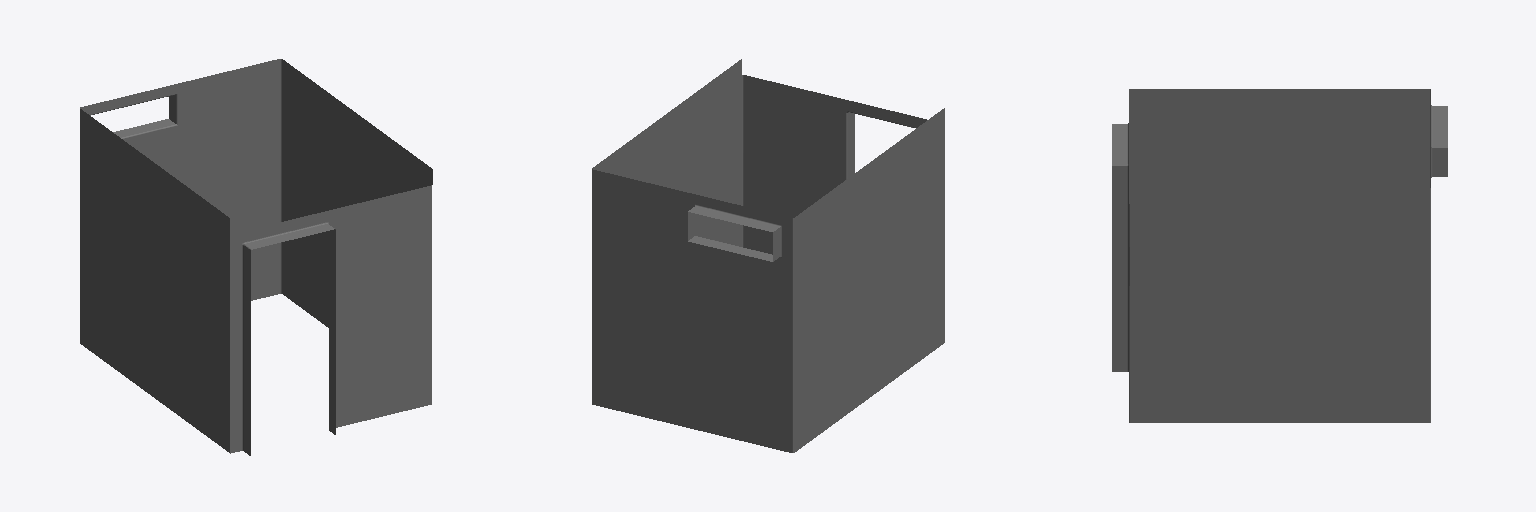
Rendered from Prison_Wall.obj.
The picture shows the model from 3 angles: view 1: azimuth 30°, elevation 25°; view 2: azimuth 150°, elevation 25°; view 3: azimuth 270°, elevation 25°; orthographic projection.
Parts seen in each view (by area): view 1: polySurface4; view 2: polySurface4; view 3: polySurface4.
Part boxes in pixels (x1,y1,x2,y2): polySurface4: (80,59,432,455); polySurface4: (592,59,944,452); polySurface4: (1112,89,1447,422).
Bounding box in the file's own units: 21.38 × 23.75 × 30.68.